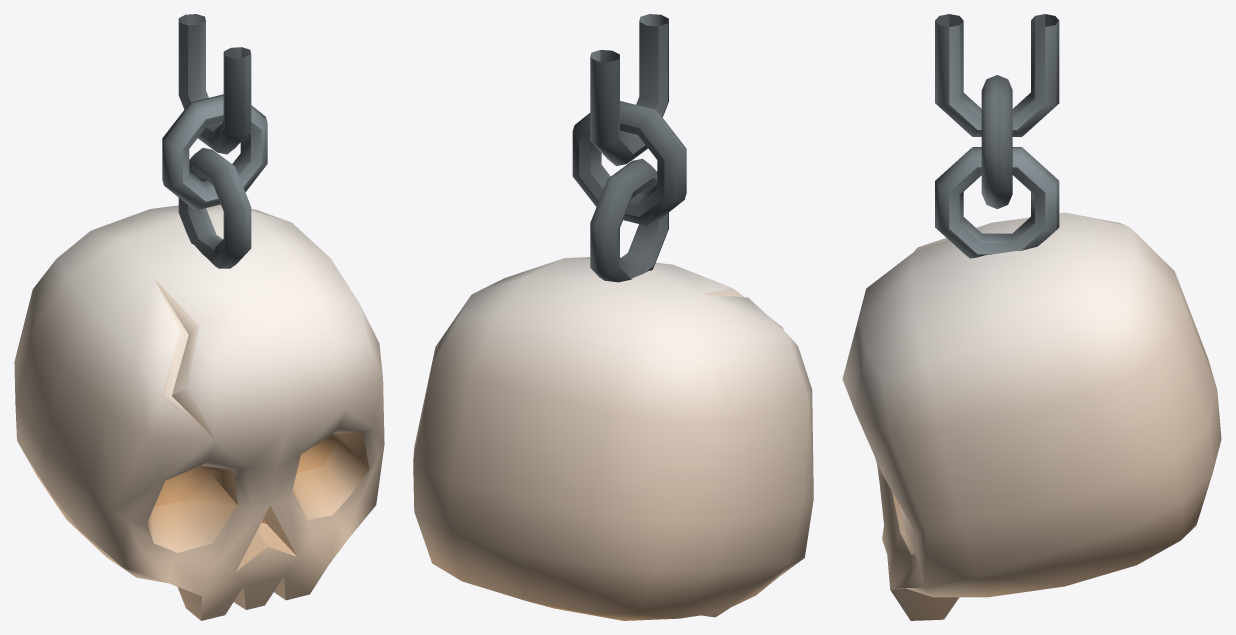
Rendered from post_skull_skull.obj.
3 renders of one model, left to right at view 1: azimuth 30°, elevation 25°; view 2: azimuth 150°, elevation 25°; view 3: azimuth 270°, elevation 25°, orthographic. The views are drawn at different scales.
Parts seen in each view (by area): view 1: post_skull_skull_Cube.573; view 2: post_skull_skull_Cube.573; view 3: post_skull_skull_Cube.573.
Part boxes in pixels (x1,y1,x2,y2): post_skull_skull_Cube.573: (14, 14, 384, 620); post_skull_skull_Cube.573: (413, 14, 813, 620); post_skull_skull_Cube.573: (842, 14, 1221, 620).
Size of the model in its own units: 0.8091 by 1.39 by 0.8295.
1 material, 1 textured.
